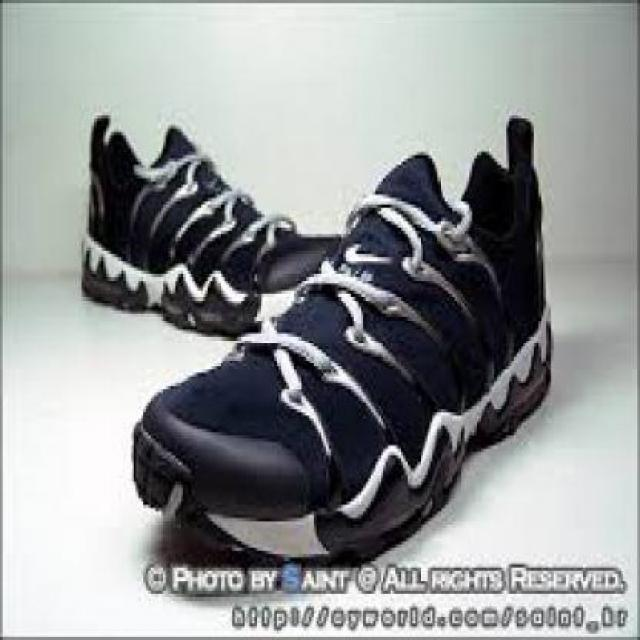Nike: (338, 234, 393, 268)
